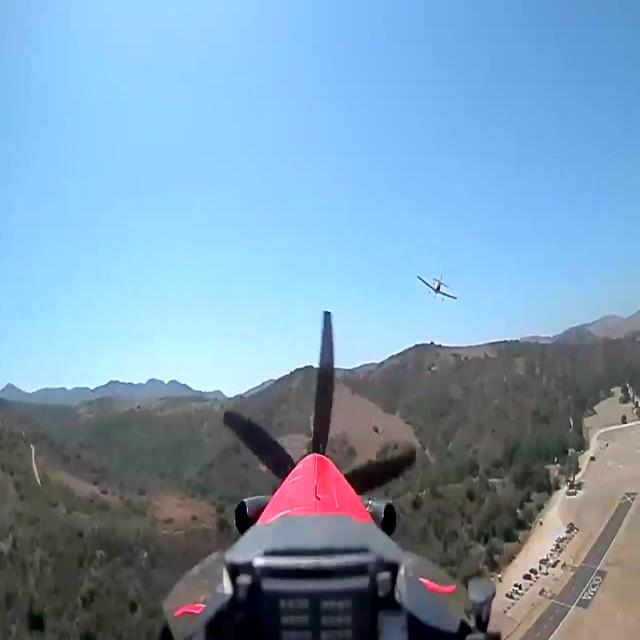iha: (416, 270, 458, 307)
